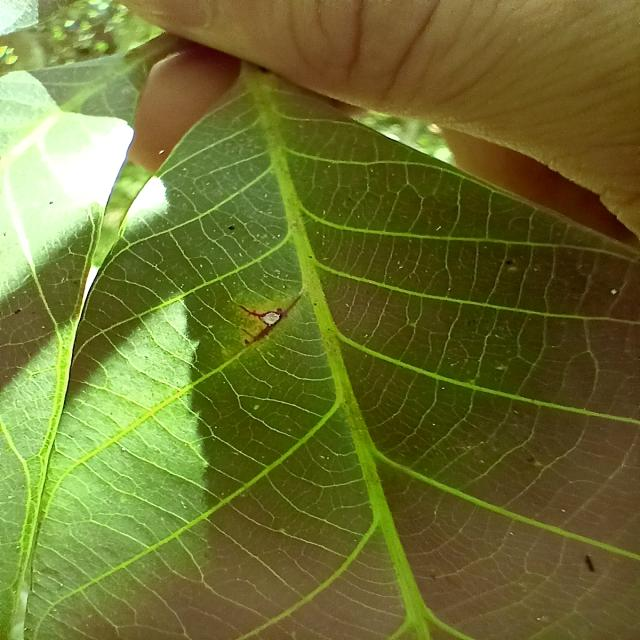Corynespora: (237, 301, 260, 318)
Leaf-Blight: (261, 308, 280, 326)
